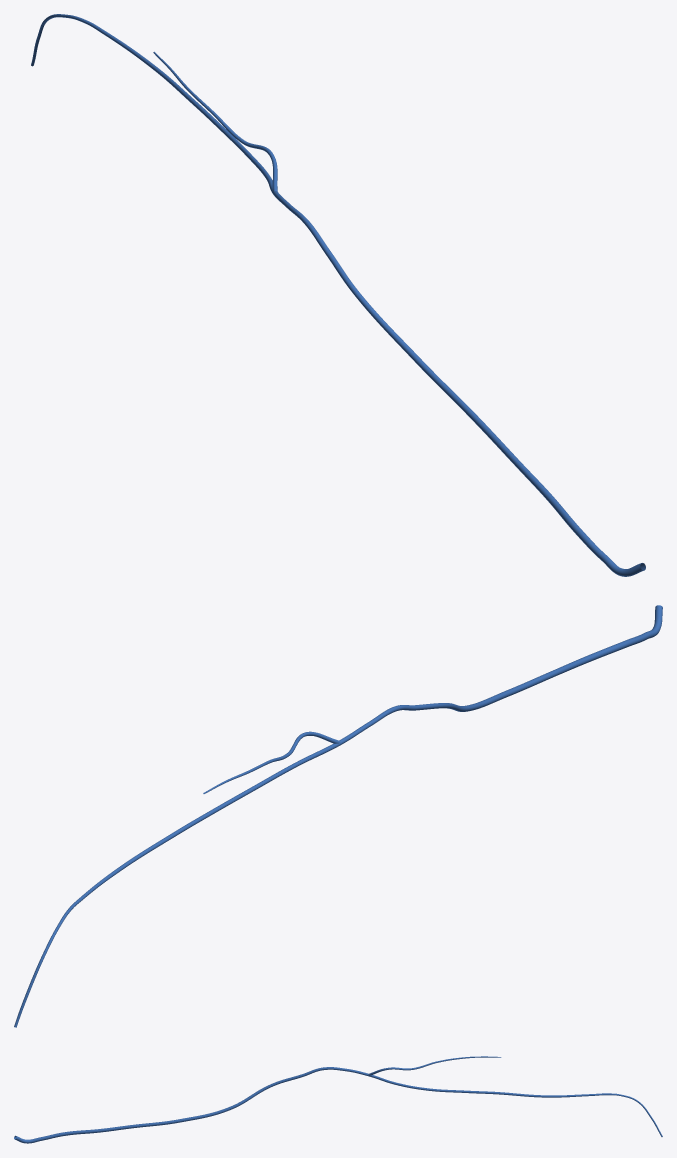
3 renders of one model, top to bottom at view 1: azimuth 30°, elevation 25°; view 2: azimuth 150°, elevation 25°; view 3: azimuth 270°, elevation 25°, orthographic. The views are drawn at different scales.
Parts seen in each view (by area): view 1: 左侧大隐静脉; view 2: 左侧大隐静脉; view 3: 左侧大隐静脉.
Part boxes in pixels (x1,y1,x2,y2): 左侧大隐静脉: (31, 14, 645, 576); 左侧大隐静脉: (14, 605, 662, 1027); 左侧大隐静脉: (14, 1056, 662, 1143).
Size of the model in its own units: 0.0776 by 0.1756 by 1.17.
